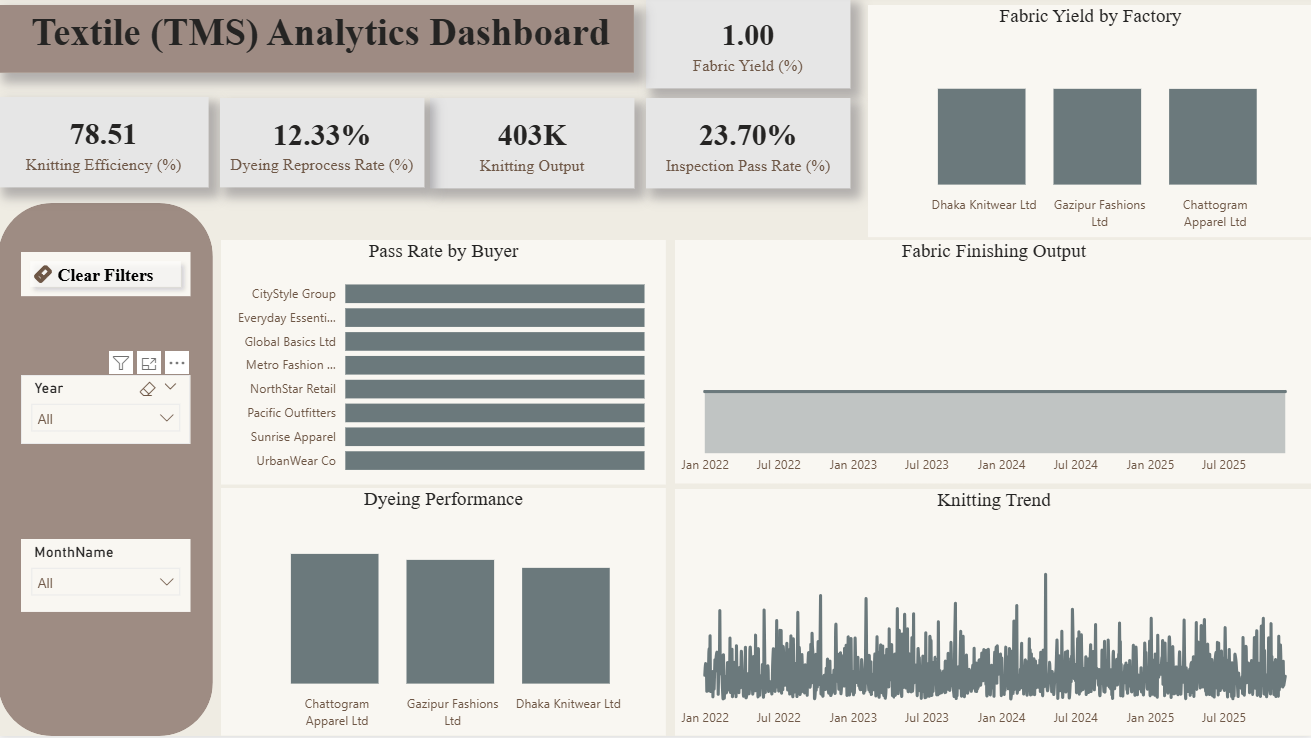

The dashboard page shown, as its layout file describes it:
{"tool":"powerbi","page":{"name":" Analyze textile (TMS) ","canvas":[1280,720],"ordinal":0},"visuals":[{"type":"shape","box":[0,201.5,209.3,518.8],"z":0},{"type":"card","fields":{"Values":["measure table of TMS.Knitting Output"]},"box":[420.5,99.3,198.6,87.6],"z":1000},{"type":"card","fields":{"Values":["measure table of TMS.Knitting Efficiency (%)","select"]},"box":[0,98.3,205.4,87.6],"z":2000},{"type":"card","fields":{"Values":["measure table of TMS.Dyeing Reprocess Rate (%)"]},"box":[216.1,99.3,198.6,86.6],"z":3000},{"type":"card","fields":{"Values":["measure table of TMS.Fabric Yield (%)"]},"box":[630.8,1.9,198.6,87.6],"z":4000},{"type":"card","fields":{"Values":["measure table of TMS.Inspection Pass Rate (%)"]},"box":[630.8,99.3,198.6,87.6],"z":5000},{"type":"lineChart","title":"Knitting Trend","fields":{"Category":["dim_date.Date"],"Y":["measure table of TMS.Knitting Output"]},"box":[659,479.9,621,240.4],"z":6000},{"type":"columnChart","title":"Dyeing Performance","fields":{"Category":["dim_factory.FactoryName"],"Y":["measure table of TMS.Dyeing Reprocess Rate (%)"]},"box":[217.1,478.9,433.2,241.4],"z":7000},{"type":"columnChart","title":"Fabric Yield by Factory","fields":{"Category":["dim_factory.FactoryName"],"Y":["measure table of TMS.Fabric Yield (%)"]},"box":[846.8,8.8,433.2,225.8],"z":8000},{"type":"areaChart","title":"Fabric Finishing Output","fields":{"Category":["dim_date.Date"],"Y":["fact_dyeing.Finishing Output (KG)"]},"box":[659,237.5,621,236.5],"z":9000},{"type":"barChart","title":"Pass Rate by Buyer ","fields":{"Category":["dim_buyer.BuyerName"],"Y":["measure table of TMS.Inspection Pass Rate (%)"]},"box":[217.1,237.5,433.2,238.5],"z":10000},{"type":"textbox","box":[0,8.8,619.1,66.2],"z":11000},{"type":"slicer","title":"Months","fields":{"Values":["dim_date.MonthName"]},"box":[22.4,528.5,164.5,71.1],"z":12000},{"type":"slicer","fields":{"Values":["dim_date.Year"]},"box":[22.4,368.9,164.5,67.2],"z":13000},{"type":"actionButton","box":[22.4,249.2,164.5,42.8],"z":14000}]}

Visuals, with their boxes in screenshot pixels (x1, y1, x2, y2), scaled from the page's 1280x720 canvas onto the 1311x738 screenshot:
shape: <bbox>0, 207, 214, 737</bbox>
card - measure table of TMS.Knitting Output: <bbox>431, 102, 634, 192</bbox>
card - measure table of TMS.Knitting Efficiency (%) x select: <bbox>0, 101, 210, 191</bbox>
card - measure table of TMS.Dyeing Reprocess Rate (%): <bbox>221, 102, 425, 191</bbox>
card - measure table of TMS.Fabric Yield (%): <bbox>646, 2, 849, 92</bbox>
card - measure table of TMS.Inspection Pass Rate (%): <bbox>646, 102, 849, 192</bbox>
"Knitting Trend" lineChart: <bbox>675, 492, 1310, 737</bbox>
"Dyeing Performance" columnChart: <bbox>222, 491, 666, 737</bbox>
"Fabric Yield by Factory" columnChart: <bbox>867, 9, 1310, 240</bbox>
"Fabric Finishing Output" areaChart: <bbox>675, 243, 1310, 486</bbox>
"Pass Rate by Buyer " barChart: <bbox>222, 243, 666, 488</bbox>
textbox: <bbox>0, 9, 634, 77</bbox>
"Months" slicer: <bbox>23, 542, 191, 615</bbox>
slicer - dim_date.Year: <bbox>23, 378, 191, 447</bbox>
actionButton: <bbox>23, 255, 191, 299</bbox>
